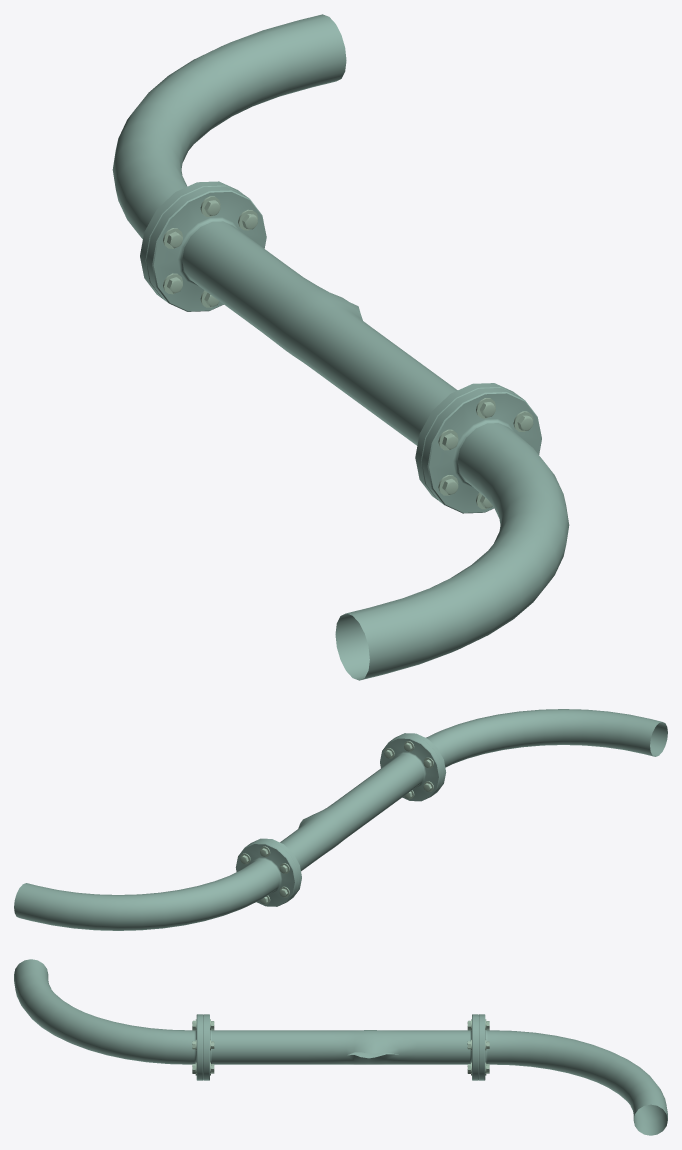
Rendered from PipeComplexLarge_A3_17.fbx.
3 renders of one model, top to bottom at view 1: azimuth 30°, elevation 25°; view 2: azimuth 150°, elevation 25°; view 3: azimuth 270°, elevation 25°, orthographic. The views are drawn at different scales.
Visible parts, largest first — view 1: PipeComplexLarge_A3_17.001; view 2: PipeComplexLarge_A3_17.001; view 3: PipeComplexLarge_A3_17.001.
Part boxes in pixels (x1,y1,x2,y2): PipeComplexLarge_A3_17.001: (112,14,569,680); PipeComplexLarge_A3_17.001: (14,709,667,930); PipeComplexLarge_A3_17.001: (14,959,667,1135).
Bounding box in the file's own units: 2 × 0.3846 × 3.8.
